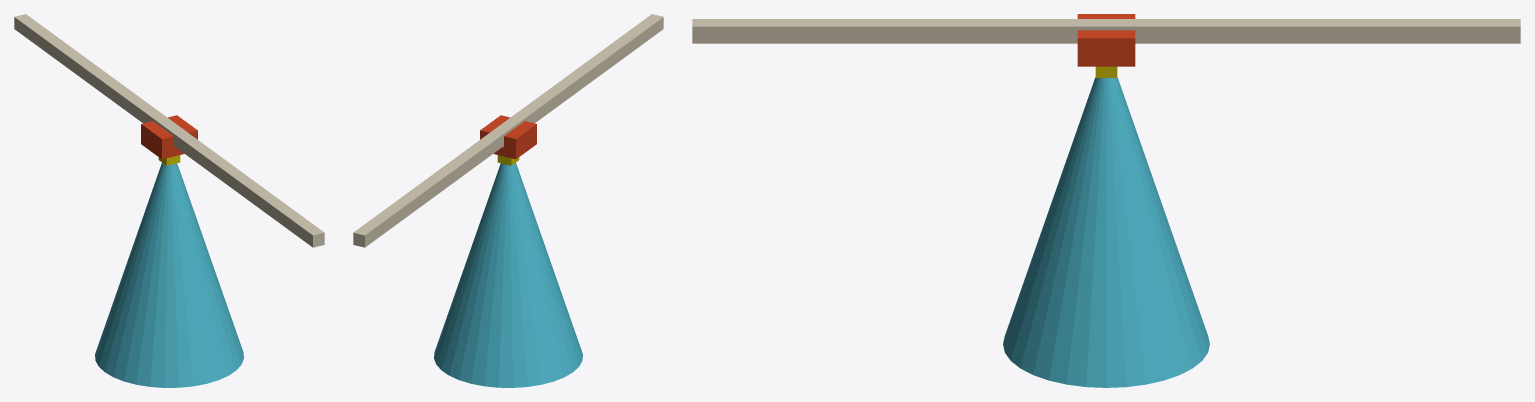
File: sprayer1.fbx
3 renders of one model, left to right at view 1: azimuth 30°, elevation 25°; view 2: azimuth 150°, elevation 25°; view 3: azimuth 270°, elevation 25°, orthographic. The views are drawn at different scales.
Parts seen in each view (by area): view 1: Water, Rod, Sprayer; view 2: Water, Rod, Sprayer; view 3: Water, Rod, Sprayer.
Part boxes in pixels (x1,y1,x2,y2): Water: (95, 163, 243, 387); Rod: (14, 14, 324, 247); Sprayer: (141, 115, 197, 165); Water: (434, 163, 582, 387); Rod: (353, 14, 663, 247); Sprayer: (480, 115, 536, 165); Water: (1003, 77, 1209, 387); Rod: (692, 19, 1520, 43); Sprayer: (1077, 14, 1135, 77).
Size of the model in its own units: 360 by 616 by 1440.
